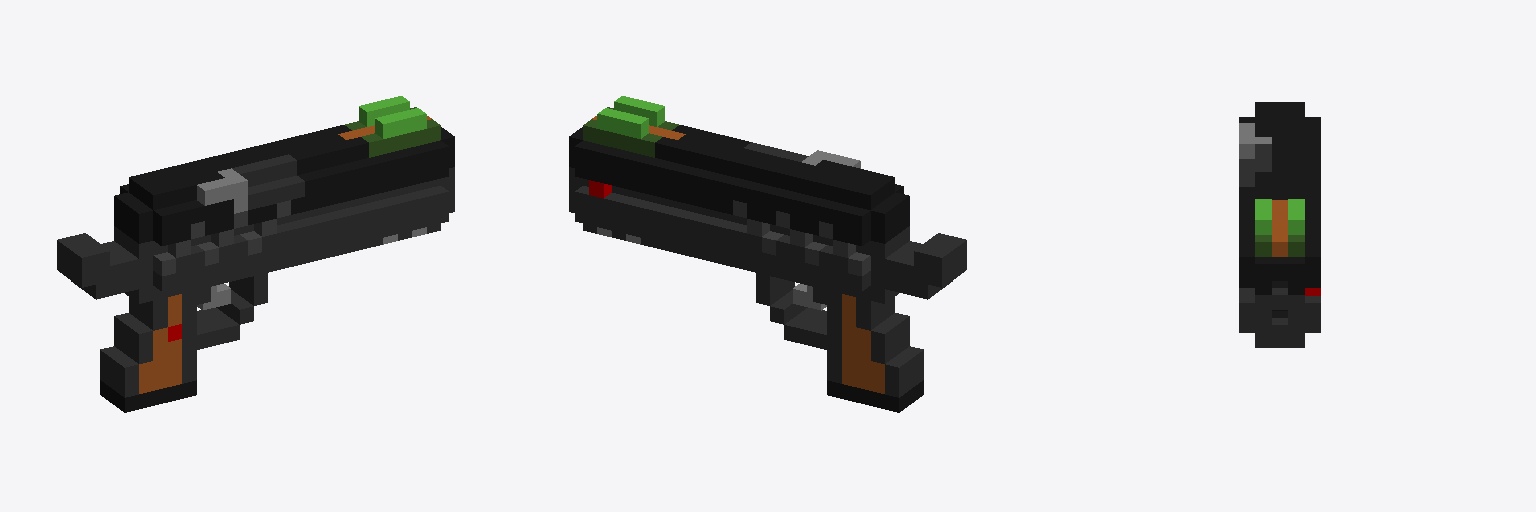
The picture shows the model from 3 angles: view 1: azimuth 30°, elevation 25°; view 2: azimuth 150°, elevation 25°; view 3: azimuth 270°, elevation 25°; orthographic projection.
Parts seen in each view (by area): view 1: object 1; view 2: object 1; view 3: object 1.
Part boxes in pixels (x1,y1,x2,y2): object 1: (57, 96, 454, 412); object 1: (569, 96, 966, 412); object 1: (1239, 102, 1320, 347).
Size of the model in its own units: 2.6 by 1.5 by 0.5.
1 materials, 1 textured.